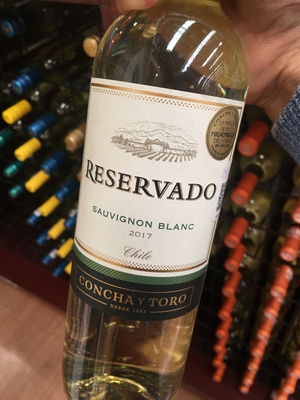reservado sauvignon blanc: (49, 4, 245, 400)
